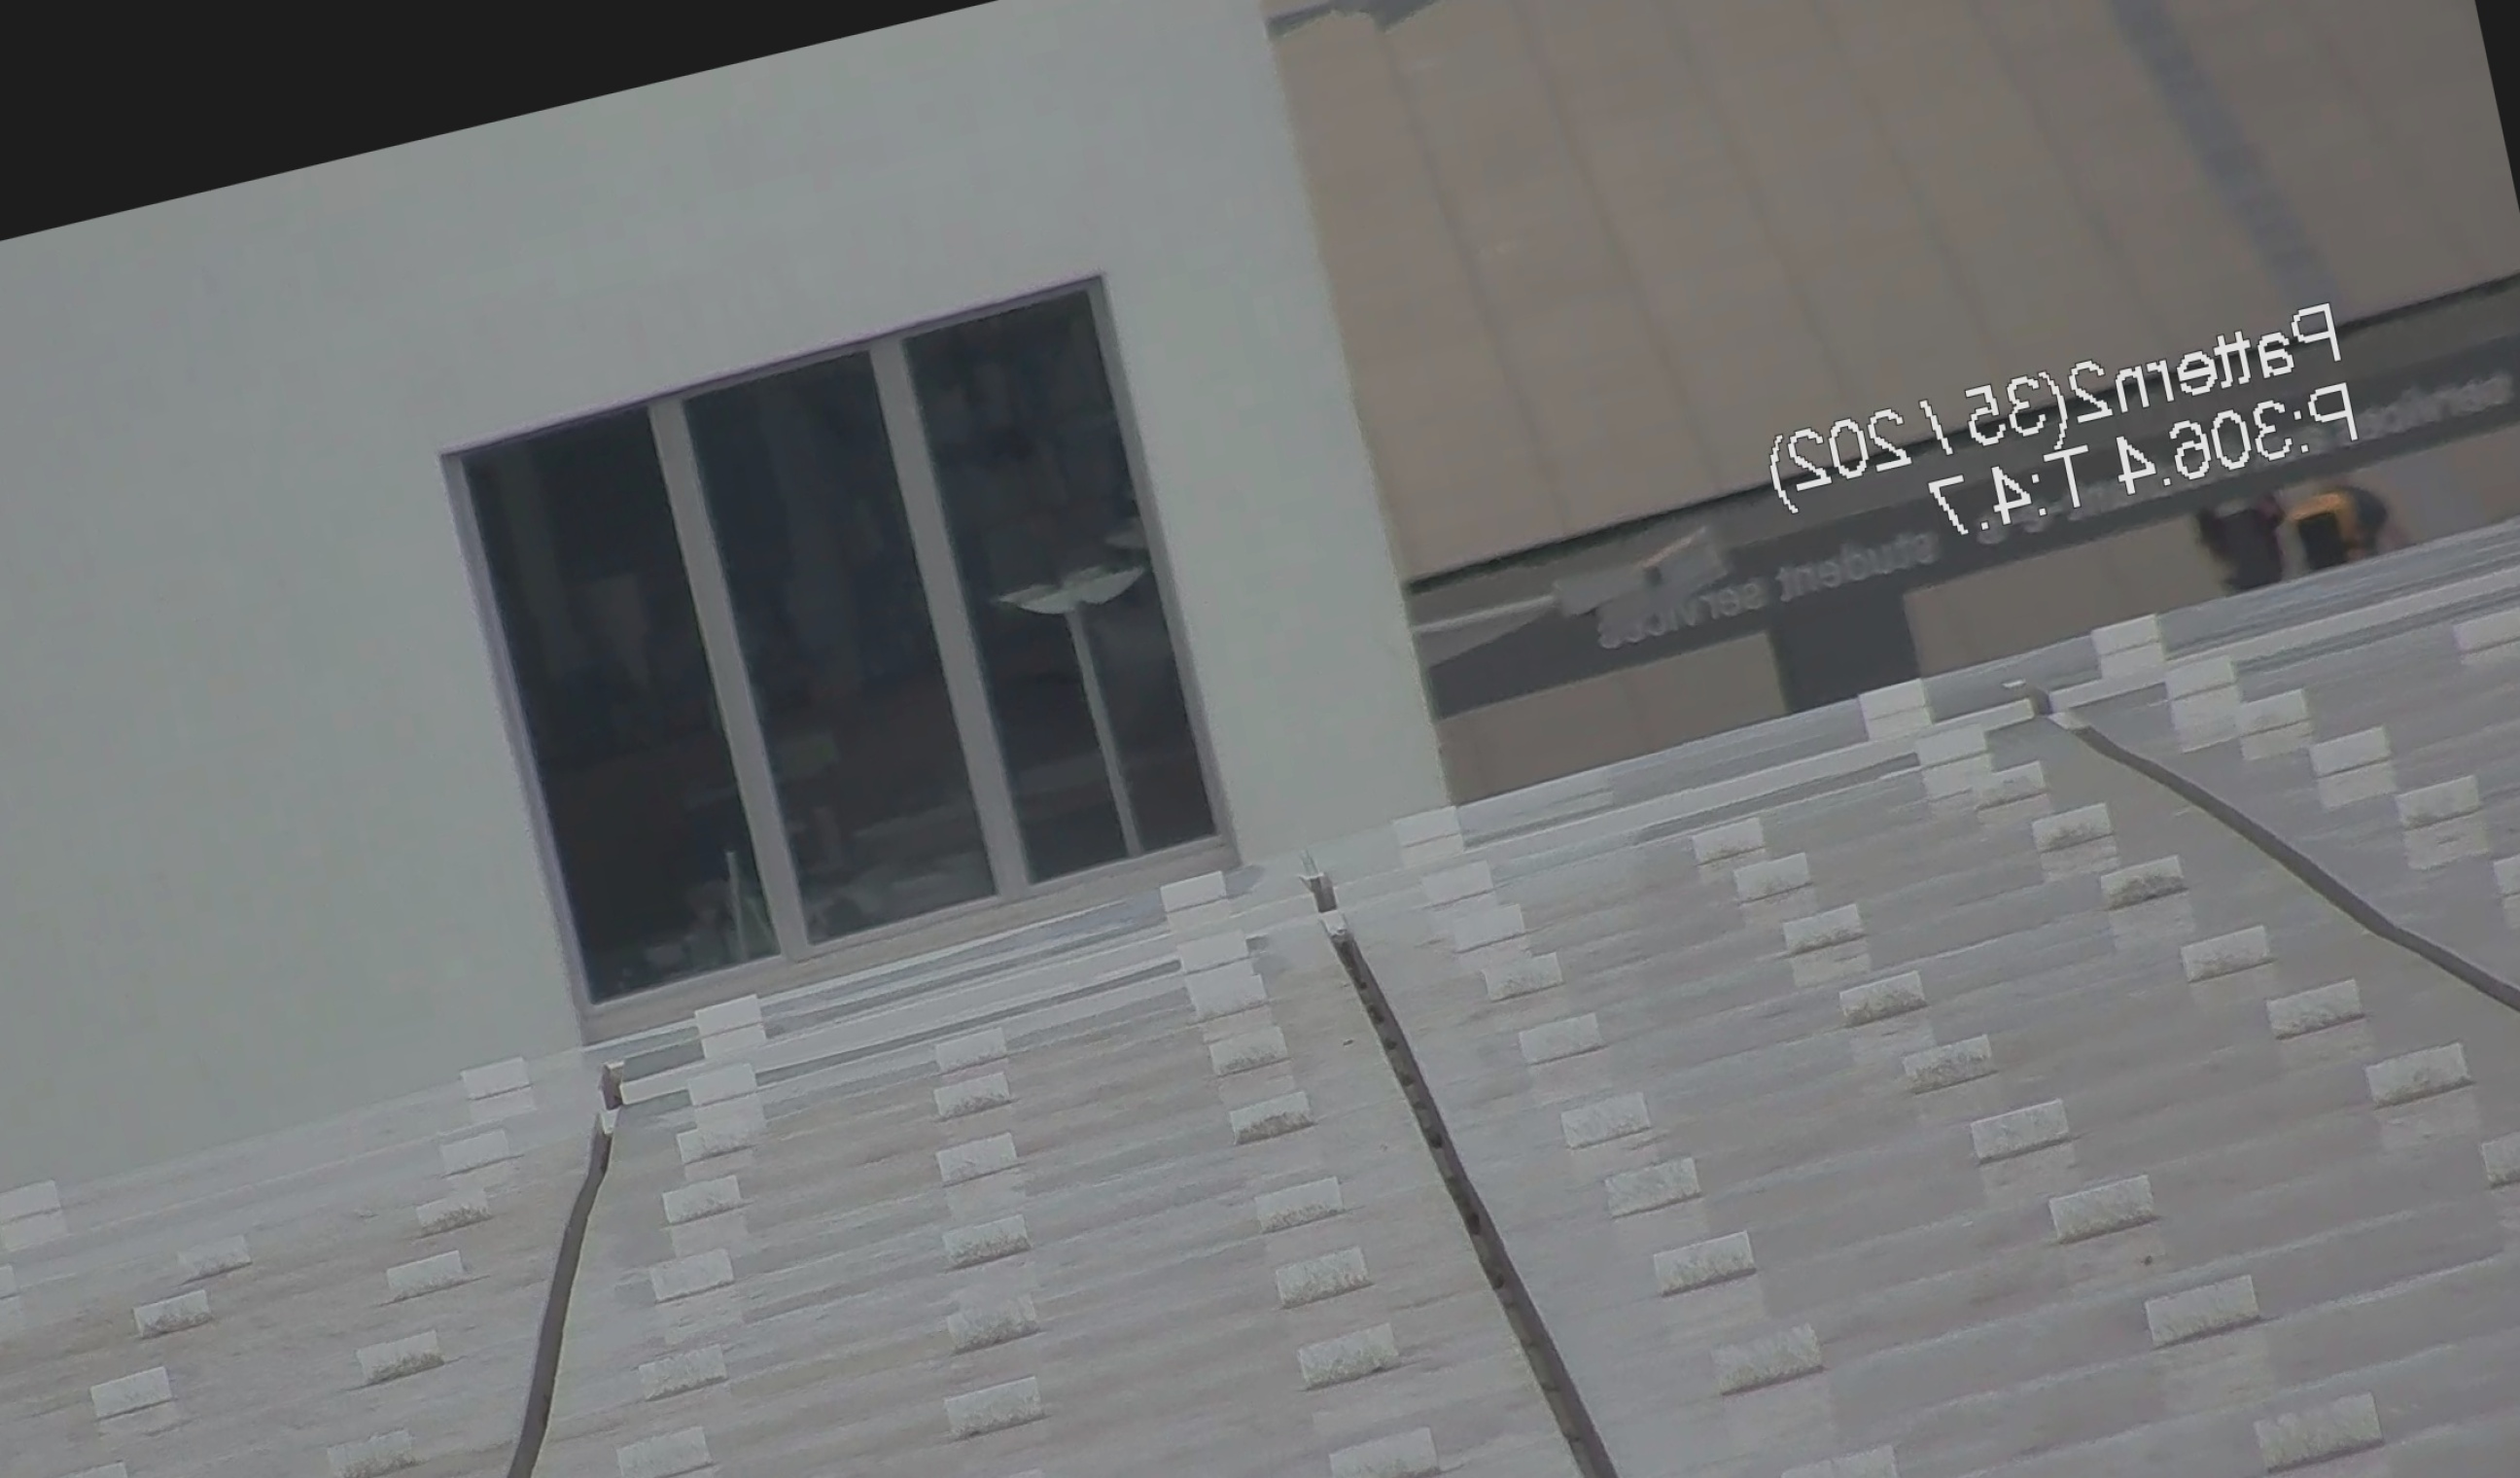Other: (1282, 0, 1497, 62)
